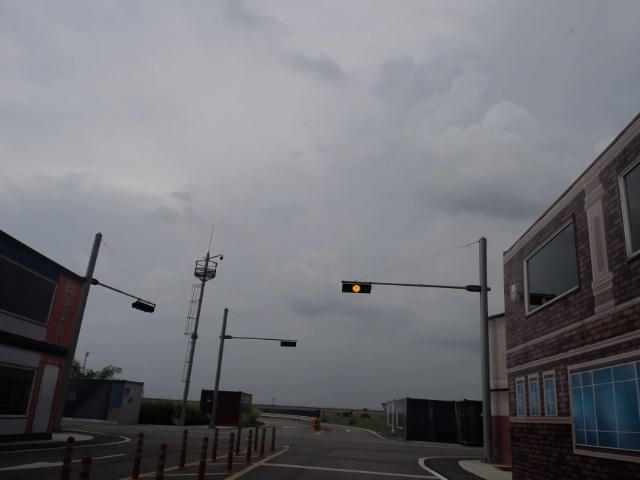orange_3: (341, 282, 371, 294)
